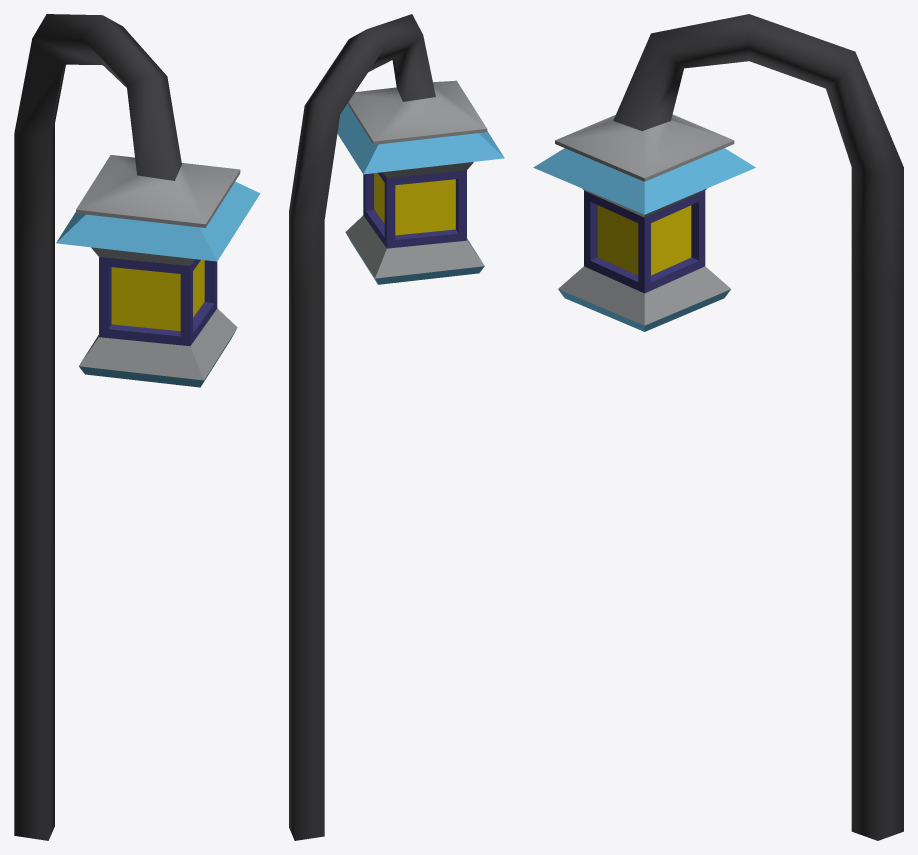
Rendered from lampf.fbx.
The picture shows the model from 3 angles, left to right: view 1: azimuth 30°, elevation 25°; view 2: azimuth 150°, elevation 25°; view 3: azimuth 270°, elevation 25°; orthographic projection. The views are drawn at different scales.
Visible parts, largest first — view 1: Object001; view 2: Object001; view 3: Object001.
Boxes of the visible parts, x1=… form: Object001: x1=14, y1=14, x2=260, y2=840; Object001: x1=289, y1=14, x2=504, y2=840; Object001: x1=533, y1=14, x2=903, y2=840.
Size of the model in its own units: 167 by 674 by 277.
